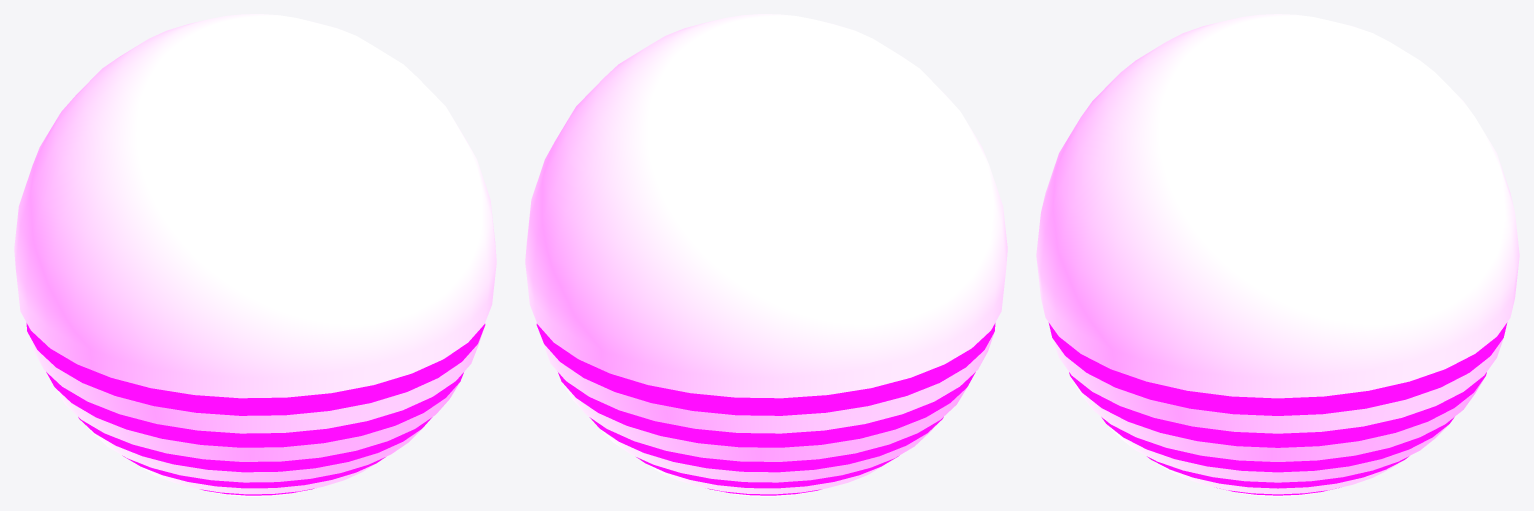
The model's file is sun.fbx.
The picture shows the model from 3 angles, left to right: view 1: azimuth 30°, elevation 25°; view 2: azimuth 150°, elevation 25°; view 3: azimuth 270°, elevation 25°; orthographic projection.
Visible parts, largest first — view 1: sun; view 2: sun; view 3: sun.
Part boxes in pixels (x1,y1,x2,y2): sun: (14,14,496,496); sun: (525,14,1007,496); sun: (1036,14,1519,496).
Bounding box in the file's own units: 830 × 830 × 830.
